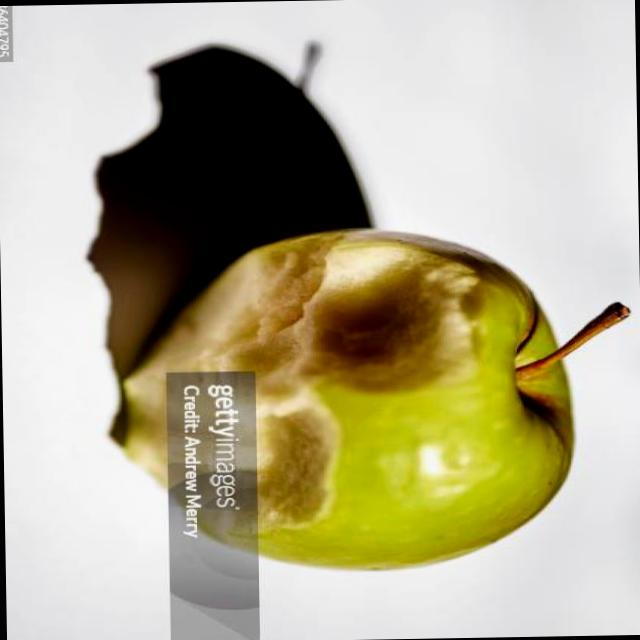Used Apple: (115, 223, 580, 566)
